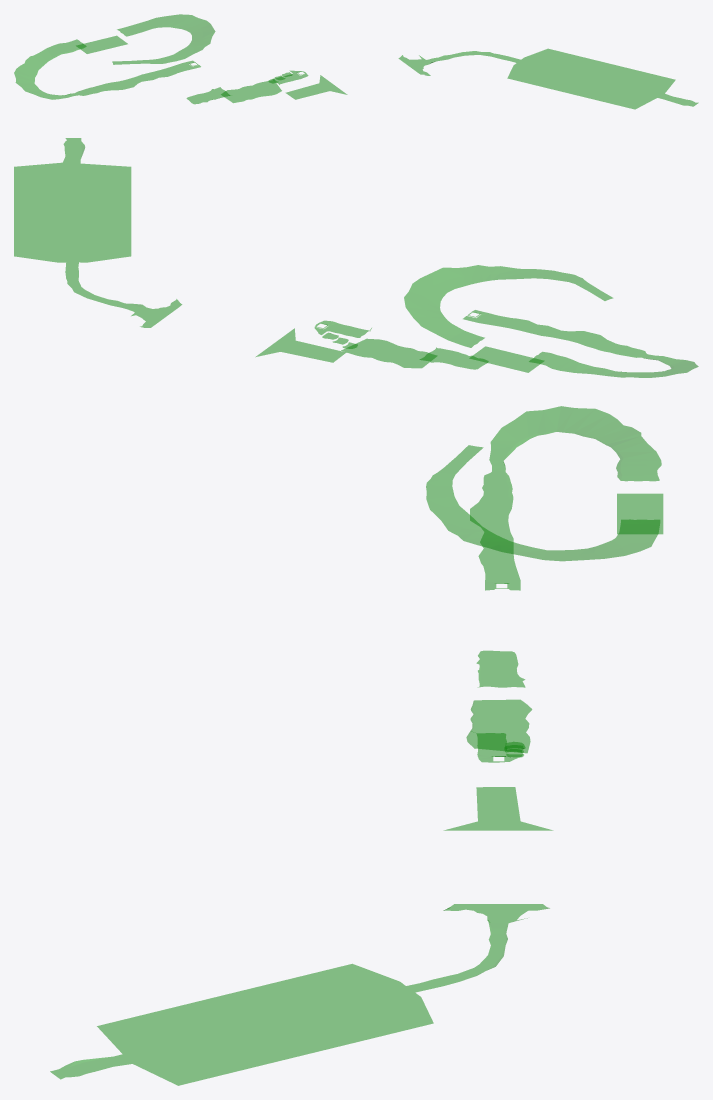
Rendered from road.obj.
The picture shows the model from 3 angles, top to bottom: view 1: azimuth 30°, elevation 25°; view 2: azimuth 150°, elevation 25°; view 3: azimuth 270°, elevation 25°; orthographic projection. The views are drawn at different scales.
Bounding box in the file's own units: 900 × 126 × 424.
